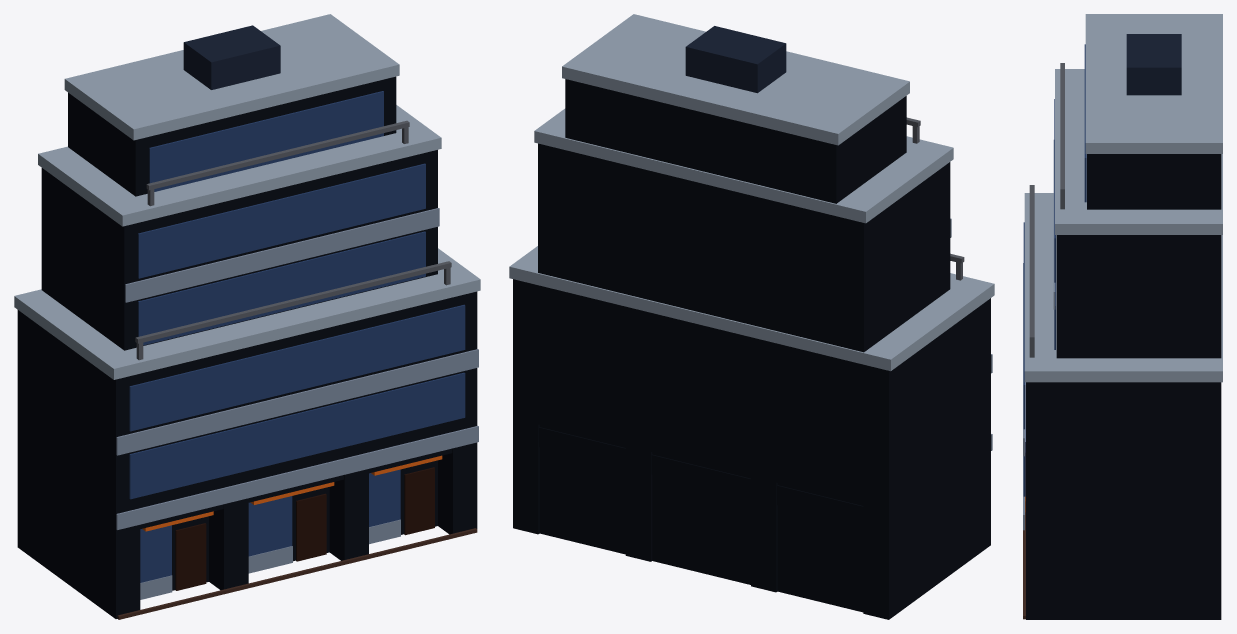
File: tradetower2.obj
3 renders of one model, left to right at view 1: azimuth 30°, elevation 25°; view 2: azimuth 150°, elevation 25°; view 3: azimuth 270°, elevation 25°, orthographic. The views are drawn at different scales.
Visible parts, largest first — view 1: tier-glazing, tiers, tier-caps, base-piers, spandrels, transom, shop-doors, shopfronts, terrace-rails, roof-plant, base-back, pavement (+3 smaller); view 2: tiers, tier-caps, base-back, base-piers, base-heads, roof-plant; view 3: tiers, tier-caps, base-piers, roof-plant, terrace-rails, tier-glazing, spandrels, pavement.
Boxes of the visible parts, <box> form: tier-glazing: <box>129,91,465,499</box>; tiers: <box>17,76,477,513</box>; tier-caps: <box>14,14,480,379</box>; base-piers: <box>17,425,477,618</box>; spandrels: <box>116,208,478,455</box>; transom: <box>116,426,478,529</box>; shop-doors: <box>175,467,434,590</box>; shopfronts: <box>140,469,400,582</box>; terrace-rails: <box>135,120,451,360</box>; roof-plant: <box>183,25,280,89</box>; base-back: <box>172,460,437,590</box>; pavement: <box>117,528,477,619</box>; tiers: <box>513,79,990,509</box>; tier-caps: <box>509,14,994,371</box>; base-back: <box>539,425,863,612</box>; base-piers: <box>513,418,990,619</box>; base-heads: <box>539,427,863,525</box>; roof-plant: <box>685,26,786,93</box>; tiers: <box>1026,154,1221,514</box>; tier-caps: <box>1024,14,1222,382</box>; base-piers: <box>1026,515,1221,619</box>; roof-plant: <box>1126,34,1181,95</box>; terrace-rails: <box>1029,63,1064,357</box>; tier-glazing: <box>1023,44,1086,496</box>; spandrels: <box>1023,140,1055,456</box>; pavement: <box>1023,442,1025,619</box>.
Size of the model in its own units: 6.9 by 8.7 by 3.27.
